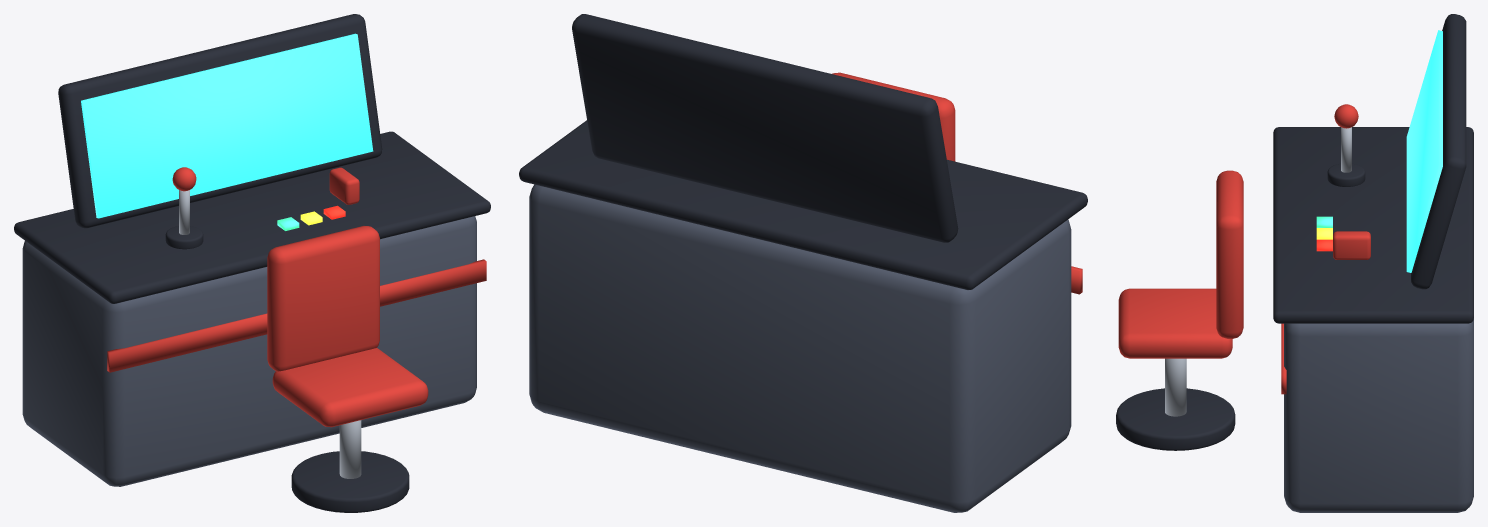
Rendered from Station_Pilot.glb.
3 renders of one model, left to right at view 1: azimuth 30°, elevation 25°; view 2: azimuth 150°, elevation 25°; view 3: azimuth 270°, elevation 25°, orthographic. The views are drawn at different scales.
Visible parts, largest first — view 1: Station_Pilot.Desk, Station_Pilot.Screen, Station_Pilot.Top, Station_Pilot.ChairBack, Station_Pilot.ScreenBody, Station_Pilot.ChairSeat, Station_Pilot.Stripe, Station_Pilot.ChairBase, Station_Pilot.ChairPole, Station_Pilot.Throttle, Station_Pilot.StickBase; view 2: Station_Pilot.Desk, Station_Pilot.ScreenBody, Station_Pilot.Top, Station_Pilot.ChairBack; view 3: Station_Pilot.Desk, Station_Pilot.Top, Station_Pilot.ChairSeat, Station_Pilot.ScreenBody, Station_Pilot.ChairBase, Station_Pilot.Screen, Station_Pilot.ChairBack, Station_Pilot.ChairPole, Station_Pilot.Throttle, Station_Pilot.StickBase, Station_Pilot.Stick, Station_Pilot.StickKnob.
Boxes of the visible parts, <box> form: Station_Pilot.Desk: <box>22,216,476,486</box>; Station_Pilot.Screen: <box>81,33,373,218</box>; Station_Pilot.Top: <box>14,131,490,303</box>; Station_Pilot.ChairBack: <box>267,226,379,371</box>; Station_Pilot.ScreenBody: <box>58,14,382,228</box>; Station_Pilot.ChairSeat: <box>272,348,428,427</box>; Station_Pilot.Stripe: <box>107,259,486,372</box>; Station_Pilot.ChairBase: <box>291,451,409,512</box>; Station_Pilot.ChairPole: <box>339,420,361,478</box>; Station_Pilot.Throttle: <box>329,167,359,204</box>; Station_Pilot.StickBase: <box>165,226,203,249</box>; Station_Pilot.Desk: <box>529,184,1071,512</box>; Station_Pilot.ScreenBody: <box>572,14,958,242</box>; Station_Pilot.Top: <box>519,120,1087,289</box>; Station_Pilot.ChairBack: <box>832,72,955,161</box>; Station_Pilot.Desk: <box>1284,318,1473,512</box>; Station_Pilot.Top: <box>1273,127,1473,323</box>; Station_Pilot.ChairSeat: <box>1118,288,1232,358</box>; Station_Pilot.ScreenBody: <box>1411,14,1466,289</box>; Station_Pilot.ChairBase: <box>1116,388,1235,450</box>; Station_Pilot.Screen: <box>1406,30,1442,272</box>; Station_Pilot.ChairBack: <box>1216,170,1243,338</box>; Station_Pilot.ChairPole: <box>1165,358,1186,416</box>; Station_Pilot.Throttle: <box>1333,231,1370,259</box>; Station_Pilot.StickBase: <box>1327,163,1365,186</box>; Station_Pilot.Stick: <box>1341,127,1351,172</box>; Station_Pilot.StickKnob: <box>1334,104,1358,128</box>.
Size of the model in its own units: 1.64 by 1.39 by 1.32.
